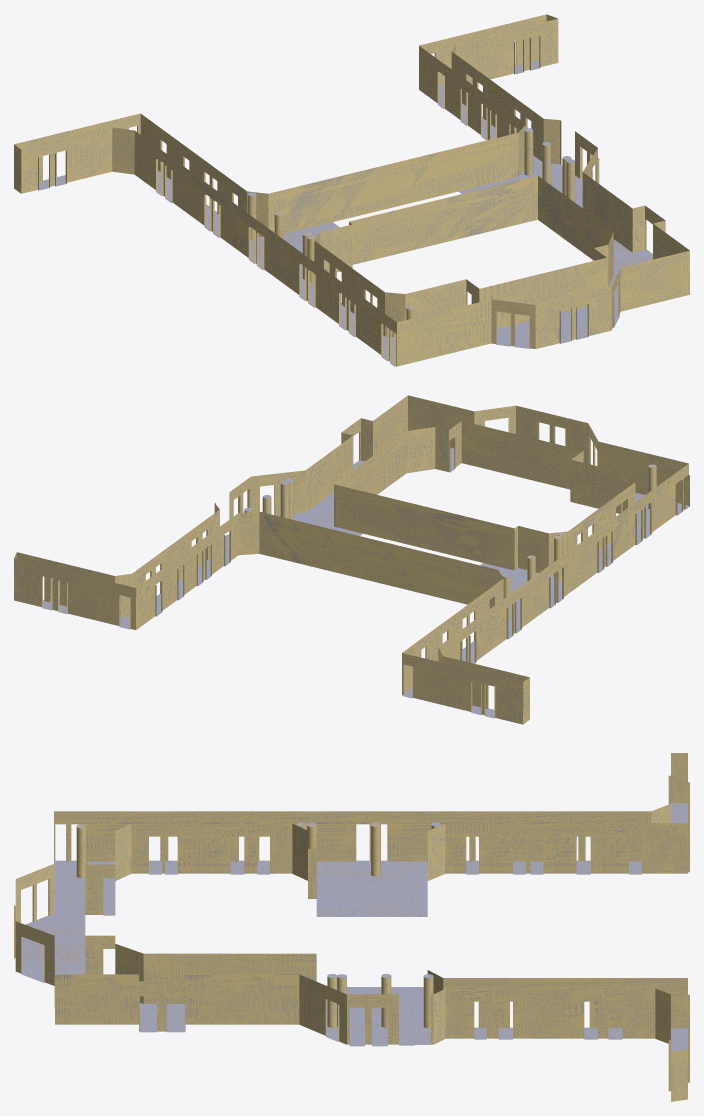
The model's file is COM001.obj.
3 views of the same model, one above another, from view 1: azimuth 30°, elevation 25°; view 2: azimuth 150°, elevation 25°; view 3: azimuth 270°, elevation 25° (orthographic). The views are drawn at different scales.
Parts seen in each view (by area): view 1: Mesh28 COM001 Model; view 2: Mesh28 COM001 Model; view 3: Mesh28 COM001 Model, Mesh25 Group9 COM001 Model, Mesh16 Group6 COM001 Model.
Part boxes in pixels (x1,y1,x2,y2): Mesh28 COM001 Model: [14, 14, 689, 366]; Mesh28 COM001 Model: [14, 395, 689, 724]; Mesh28 COM001 Model: [14, 753, 689, 1101]; Mesh25 Group9 COM001 Model: [76, 824, 86, 877]; Mesh16 Group6 COM001 Model: [371, 822, 380, 876].
Size of the model in its own units: 38.19 by 3 by 36.55.
4 materials, 2 textured.
